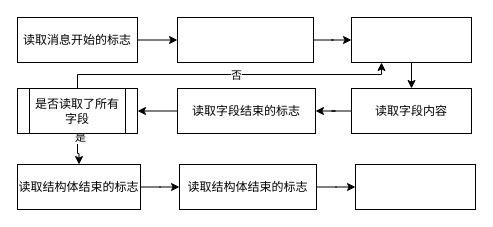
The diagram is 493 pixels wide and 227 high, and some of its shapes have lost their labels. Each missing label, with the box of its shape:
读取字段开始的标志: (350, 16, 472, 62)
读取消息结束的标志: (354, 164, 476, 210)
读取结构体开始的标志: (176, 16, 314, 62)
